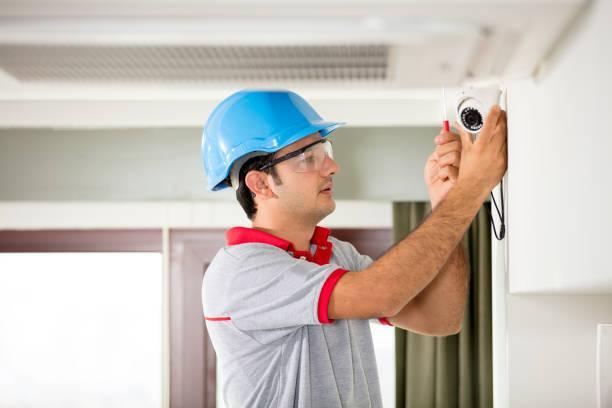camera: (441, 81, 505, 135)
